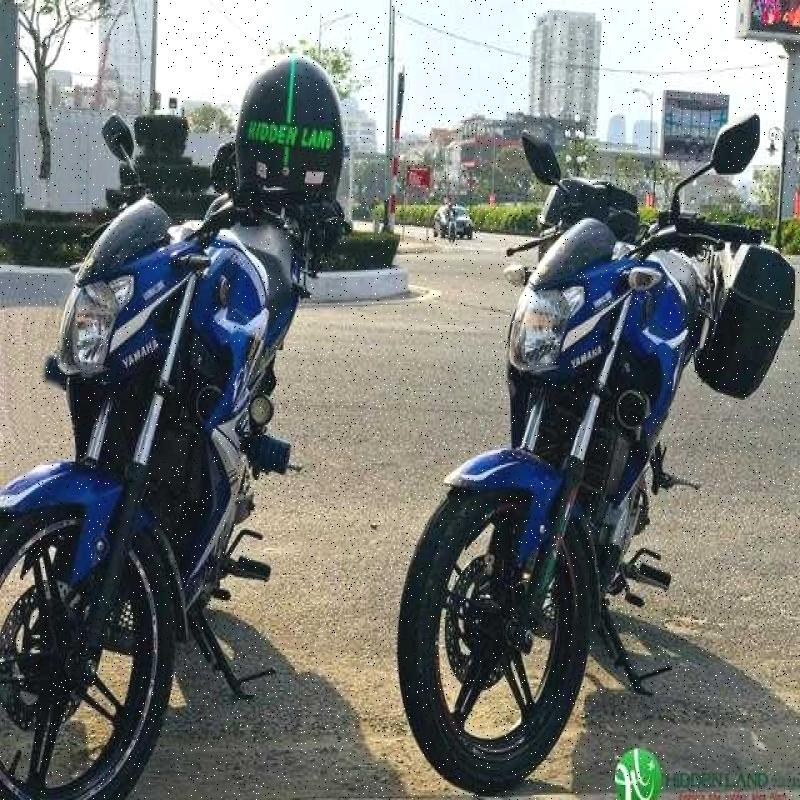bike: (392, 78, 796, 786), (0, 22, 354, 795)
